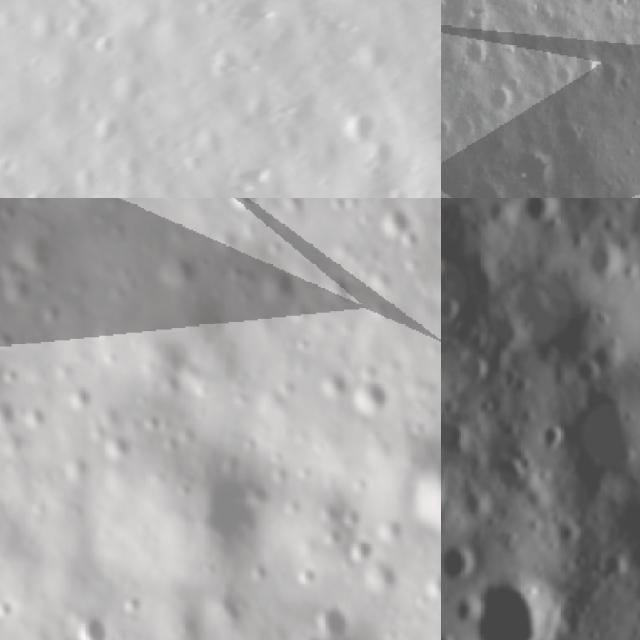crater: (450, 558, 579, 640), (569, 226, 637, 304), (441, 407, 491, 482), (405, 443, 441, 529), (441, 529, 489, 592), (335, 96, 389, 151), (507, 148, 562, 198), (448, 341, 499, 394), (508, 198, 566, 239), (108, 68, 156, 113), (249, 265, 297, 310), (529, 420, 572, 467), (364, 138, 406, 182), (84, 29, 128, 71), (595, 55, 636, 100), (90, 110, 131, 154), (376, 206, 415, 246), (441, 282, 471, 333), (343, 374, 386, 408), (548, 116, 586, 153), (569, 46, 605, 84), (70, 613, 117, 640), (467, 173, 513, 198), (460, 40, 493, 72), (484, 83, 512, 117), (63, 0, 103, 22), (220, 198, 259, 212), (19, 184, 56, 198), (483, 198, 528, 207)
